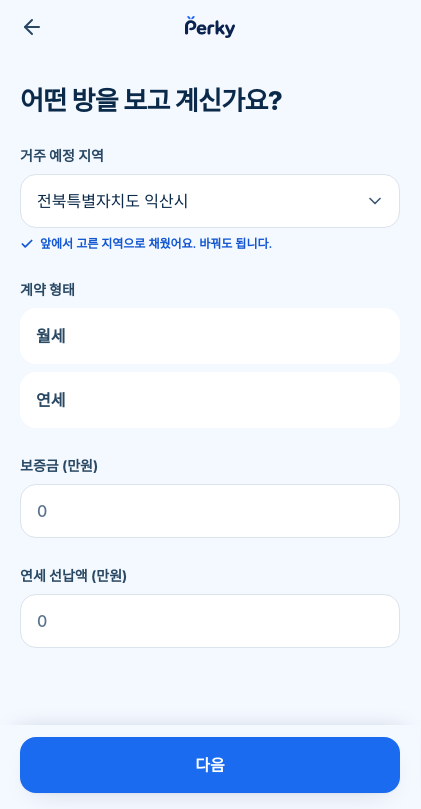
Test: /calculate 1층 답변 이어받기 › 사용자가 지역을 직접 바꾸면 안내 문구를 거둔다
Select "그 외 지역 (전국 정책만 해당)" in the dropdown at (210, 201), box [20,174,400,228]
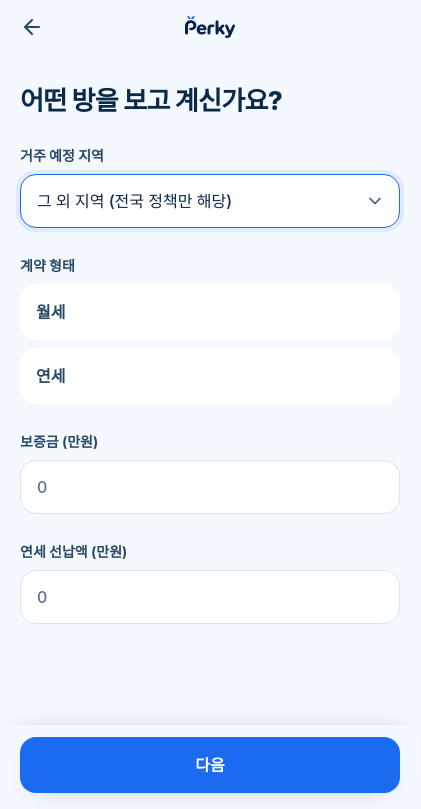
Expected: the text "앞에서 고른 지역으로 채웠어요" is gone
